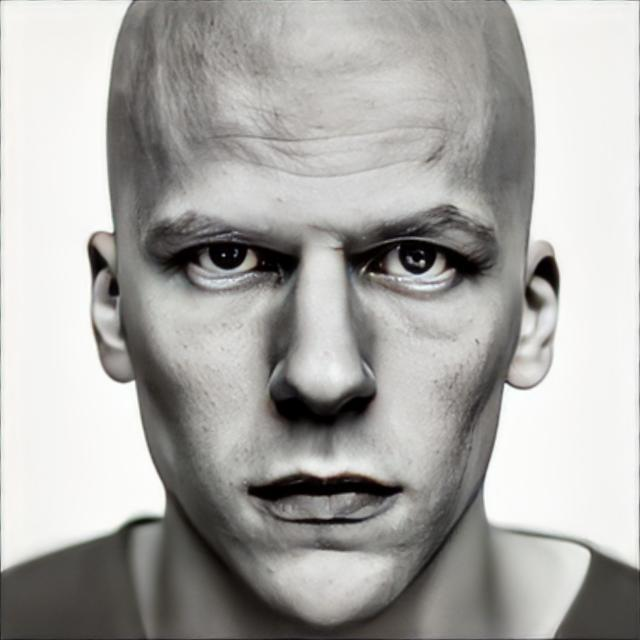anger: (123, 77, 518, 612)
